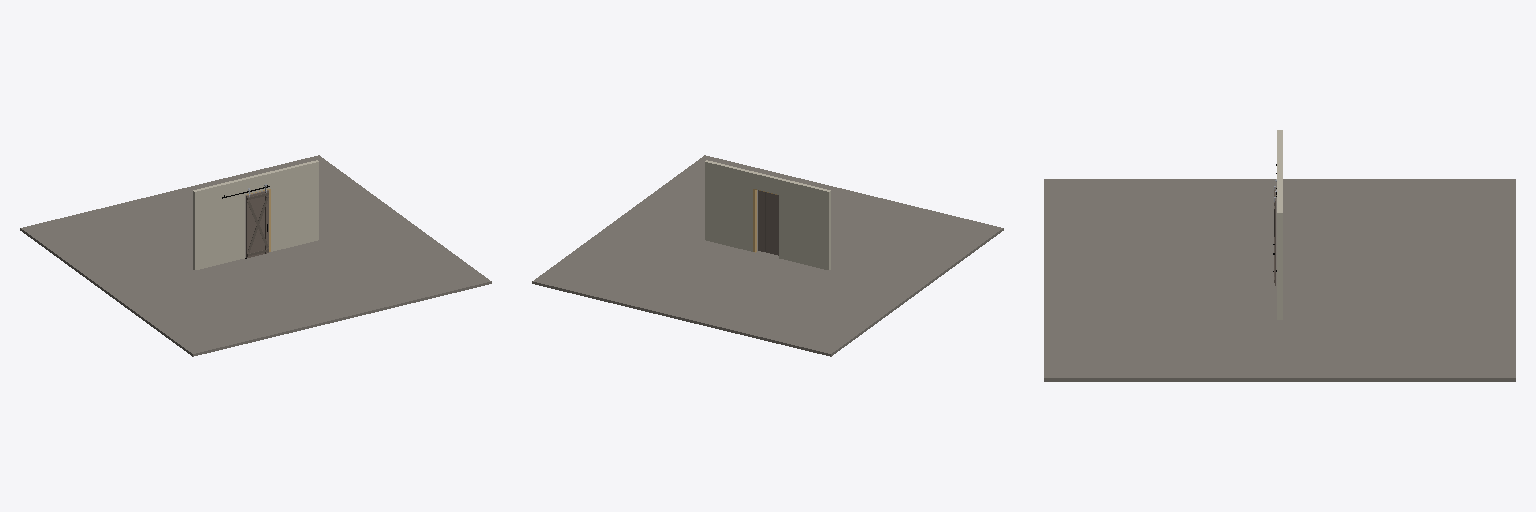
The robot description file, URDF, robot "db0920_sliding_single_full":
<?xml version="1.0" ?>
<robot xmlns:doorbench="https://github.com/adamraudonis/DoorBench/schema/urdf-ext" name="db0920_sliding_single_full">
  <link name="world_env">
    <visual name="floor_vis">
      <origin xyz="0 0 -0.05" rpy="0 0 0"/>
      <geometry>
        <box size="12 12 0.1"/>
      </geometry>
      <material name="mat_floor"/>
    </visual>
    <collision name="floor_col">
      <origin xyz="0 0 -0.05" rpy="0 0 0"/>
      <geometry>
        <box size="12 12 0.1"/>
      </geometry>
    </collision>
    <visual name="wall_left_vis">
      <origin xyz="-1.493 0 1.51" rpy="0 0 0"/>
      <geometry>
        <box size="2.014 0.145 3.02"/>
      </geometry>
      <material name="mat_wall"/>
    </visual>
    <collision name="wall_left_col">
      <origin xyz="-1.493 0 1.51" rpy="0 0 0"/>
      <geometry>
        <box size="2.014 0.145 3.02"/>
      </geometry>
    </collision>
    <visual name="wall_right_vis">
      <origin xyz="1.523 0 1.51" rpy="0 0 0"/>
      <geometry>
        <box size="1.954 0.145 3.02"/>
      </geometry>
      <material name="mat_wall"/>
    </visual>
    <collision name="wall_right_col">
      <origin xyz="1.523 0 1.51" rpy="0 0 0"/>
      <geometry>
        <box size="1.954 0.145 3.02"/>
      </geometry>
    </collision>
    <visual name="wall_header_vis">
      <origin xyz="0.03 0 2.7295" rpy="0 0 0"/>
      <geometry>
        <box size="1.032 0.145 0.581"/>
      </geometry>
      <material name="mat_wall"/>
    </visual>
    <collision name="wall_header_col">
      <origin xyz="0.03 0 2.7295" rpy="0 0 0"/>
      <geometry>
        <box size="1.032 0.145 0.581"/>
      </geometry>
    </collision>
    <visual name="jamb_l_vis">
      <origin xyz="-0.4765 0 1.21" rpy="0 0 0"/>
      <geometry>
        <box size="0.019 0.145 2.42"/>
      </geometry>
      <material name="mat_frame"/>
    </visual>
    <collision name="jamb_l_col">
      <origin xyz="-0.4765 0 1.21" rpy="0 0 0"/>
      <geometry>
        <box size="0.019 0.145 2.42"/>
      </geometry>
    </collision>
    <visual name="jamb_head_vis">
      <origin xyz="0 0 2.4295" rpy="0 0 0"/>
      <geometry>
        <box size="0.972 0.145 0.019"/>
      </geometry>
      <material name="mat_frame"/>
    </visual>
    <collision name="jamb_head_col">
      <origin xyz="0 0 2.4295" rpy="0 0 0"/>
      <geometry>
        <box size="0.972 0.145 0.019"/>
      </geometry>
    </collision>
    <visual name="flat_track_vis">
      <origin xyz="-0.457 -0.0945 2.54" rpy="0 0 0"/>
      <geometry>
        <box size="1.928 0.008 0.04"/>
      </geometry>
      <material name="mat_track"/>
    </visual>
    <collision name="flat_track_col">
      <origin xyz="-0.457 -0.0945 2.54" rpy="0 0 0"/>
      <geometry>
        <box size="1.928 0.008 0.04"/>
      </geometry>
    </collision>
    <visual name="track_standoff_0_vis">
      <origin xyz="-1.371 -0.0815 2.54" rpy="-1.570796 0 0"/>
      <geometry>
        <cylinder radius="0.012" length="0.018"/>
      </geometry>
      <material name="mat_track"/>
    </visual>
    <visual name="track_standoff_1_vis">
      <origin xyz="-0.914 -0.0815 2.54" rpy="-1.570796 0 0"/>
      <geometry>
        <cylinder radius="0.012" length="0.018"/>
      </geometry>
      <material name="mat_track"/>
    </visual>
    <visual name="track_standoff_2_vis">
      <origin xyz="-0.457 -0.0815 2.54" rpy="-1.570796 0 0"/>
      <geometry>
        <cylinder radius="0.012" length="0.018"/>
      </geometry>
      <material name="mat_track"/>
    </visual>
    <visual name="track_standoff_3_vis">
      <origin xyz="0 -0.0815 2.54" rpy="-1.570796 0 0"/>
      <geometry>
        <cylinder radius="0.012" length="0.018"/>
      </geometry>
      <material name="mat_track"/>
    </visual>
    <visual name="track_standoff_4_vis">
      <origin xyz="0.457 -0.0815 2.54" rpy="-1.570796 0 0"/>
      <geometry>
        <cylinder radius="0.012" length="0.018"/>
      </geometry>
      <material name="mat_track"/>
    </visual>
    <visual name="leaf_track_stop_l_vis">
      <origin xyz="-1.313 -0.0945 2.585" rpy="0 0 0"/>
      <geometry>
        <box size="0.024 0.032 0.054"/>
      </geometry>
      <material name="mat_track"/>
    </visual>
    <collision name="leaf_track_stop_l_col">
      <origin xyz="-1.313 -0.0945 2.585" rpy="0 0 0"/>
      <geometry>
        <box size="0.024 0.032 0.054"/>
      </geometry>
    </collision>
    <visual name="leaf_track_stop_r_vis">
      <origin xyz="0.399 -0.0945 2.585" rpy="0 0 0"/>
      <geometry>
        <box size="0.024 0.032 0.054"/>
      </geometry>
      <material name="mat_track"/>
    </visual>
    <collision name="leaf_track_stop_r_col">
      <origin xyz="0.399 -0.0945 2.585" rpy="0 0 0"/>
      <geometry>
        <box size="0.024 0.032 0.054"/>
      </geometry>
    </collision>
    <visual name="jamb_latch_0_vis">
      <origin xyz="0.5065 0 1.21" rpy="0 0 0"/>
      <geometry>
        <box size="0.079 0.145 2.42"/>
      </geometry>
      <material name="mat_frame"/>
    </visual>
    <collision name="jamb_latch_0_col">
      <origin xyz="0.5065 0 1.21" rpy="0 0 0"/>
      <geometry>
        <box size="0.079 0.145 2.42"/>
      </geometry>
    </collision>
    <visual name="floor_guide_n_vis">
      <origin xyz="-0.457 -0.1415 0.009" rpy="0 0 0"/>
      <geometry>
        <box size="0.056 0.008 0.018"/>
      </geometry>
      <material name="mat_track"/>
    </visual>
    <collision name="floor_guide_n_col">
      <origin xyz="-0.457 -0.1415 0.009" rpy="0 0 0"/>
      <geometry>
        <box size="0.056 0.008 0.018"/>
      </geometry>
    </collision>
    <visual name="floor_guide_n_foot_vis">
      <origin xyz="-0.457 -0.1555 0.002" rpy="0 0 0"/>
      <geometry>
        <box size="0.056 0.036 0.004"/>
      </geometry>
      <material name="mat_track"/>
    </visual>
    <collision name="floor_guide_n_foot_col">
      <origin xyz="-0.457 -0.1555 0.002" rpy="0 0 0"/>
      <geometry>
        <box size="0.056 0.036 0.004"/>
      </geometry>
    </collision>
    <visual name="floor_guide_p_vis">
      <origin xyz="-0.457 -0.0875 0.009" rpy="0 0 0"/>
      <geometry>
        <box size="0.056 0.008 0.018"/>
      </geometry>
      <material name="mat_track"/>
    </visual>
    <collision name="floor_guide_p_col">
      <origin xyz="-0.457 -0.0875 0.009" rpy="0 0 0"/>
      <geometry>
        <box size="0.056 0.008 0.018"/>
      </geometry>
    </collision>
    <visual name="floor_guide_p_foot_vis">
      <origin xyz="-0.457 -0.0735 0.002" rpy="0 0 0"/>
      <geometry>
        <box size="0.056 0.036 0.004"/>
      </geometry>
      <material name="mat_track"/>
    </visual>
    <collision name="floor_guide_p_foot_col">
      <origin xyz="-0.457 -0.0735 0.002" rpy="0 0 0"/>
      <geometry>
        <box size="0.056 0.036 0.004"/>
      </geometry>
    </collision>
  </link>
  <link name="leaf">
    <inertial>
      <origin xyz="0.00355 0.000111 1.321032" rpy="0 0 0"/>
      <mass value="47.028832"/>
      <inertia ixx="26.963078082" ixy="0.009889738" ixz="0.053591985" iyy="30.429437771" iyz="-0.054528862" izz="3.486531905"/>
    </inertial>
    <visual name="leaf_slab_vis">
      <origin xyz="0 0 1.212" rpy="0 0 0"/>
      <geometry>
        <box size="0.914 0.044 2.4"/>
      </geometry>
      <material name="mat_leaf"/>
    </visual>
    <collision name="leaf_slab_col">
      <origin xyz="0 0 1.212" rpy="0 0 0"/>
      <geometry>
        <box size="0.914 0.044 2.4"/>
      </geometry>
    </collision>
    <visual name="leaf_plank_gap_1_vis">
      <origin xyz="-0.304667 0 1.212" rpy="0 0 0"/>
      <geometry>
        <box size="0.004 0.046 2.38"/>
      </geometry>
      <material name="mat_leaf_brace"/>
    </visual>
    <visual name="leaf_plank_gap_2_vis">
      <origin xyz="-0.152333 0 1.212" rpy="0 0 0"/>
      <geometry>
        <box size="0.004 0.046 2.38"/>
      </geometry>
      <material name="mat_leaf_brace"/>
    </visual>
    <visual name="leaf_plank_gap_3_vis">
      <origin xyz="0 0 1.212" rpy="0 0 0"/>
      <geometry>
        <box size="0.004 0.046 2.38"/>
      </geometry>
      <material name="mat_leaf_brace"/>
    </visual>
    <visual name="leaf_plank_gap_4_vis">
      <origin xyz="0.152333 0 1.212" rpy="0 0 0"/>
      <geometry>
        <box size="0.004 0.046 2.38"/>
      </geometry>
      <material name="mat_leaf_brace"/>
    </visual>
    <visual name="leaf_plank_gap_5_vis">
      <origin xyz="0.304667 0 1.212" rpy="0 0 0"/>
      <geometry>
        <box size="0.004 0.046 2.38"/>
      </geometry>
      <material name="mat_leaf_brace"/>
    </visual>
    <visual name="leaf_batten_13_vis">
      <origin xyz="0 -0.032 0.132" rpy="0 0 0"/>
      <geometry>
        <box size="0.854 0.02 0.09"/>
      </geometry>
      <material name="mat_leaf_brace"/>
    </visual>
    <visual name="leaf_batten_229_vis">
      <origin xyz="0 -0.032 2.292" rpy="0 0 0"/>
      <geometry>
        <box size="0.854 0.02 0.09"/>
      </geometry>
      <material name="mat_leaf_brace"/>
    </visual>
    <visual name="leaf_brace_z_vis">
      <origin xyz="0 -0.032 1.212" rpy="0 -1.192816 0"/>
      <geometry>
        <box size="2.085696 0.02 0.09"/>
      </geometry>
      <material name="mat_leaf_brace"/>
    </visual>
    <visual name="leaf_brace_x_vis">
      <origin xyz="0 -0.032 1.212" rpy="0 1.192816 0"/>
      <geometry>
        <box size="2.085696 0.02 0.09"/>
      </geometry>
      <material name="mat_leaf_brace"/>
    </visual>
    <visual name="leaf_hanger_wheel_0_vis">
      <origin xyz="-0.337 0.02 2.61" rpy="-1.570796 0 0"/>
      <geometry>
        <cylinder radius="0.05" length="0.02"/>
      </geometry>
      <material name="mat_roller"/>
    </visual>
    <visual name="leaf_hanger_mount_0_vis">
      <origin xyz="-0.337 -0.026 2.3645" rpy="0 0 0"/>
      <geometry>
        <box size="0.036 0.008 0.145"/>
      </geometry>
      <material name="mat_roller"/>
    </visual>
    <visual name="leaf_hanger_strap_0_vis">
      <origin xyz="-0.337 0.006 2.5295" rpy="0 0 0"/>
      <geometry>
        <box size="0.036 0.008 0.185"/>
      </geometry>
      <material name="mat_roller"/>
    </visual>
    <visual name="leaf_hanger_bend_0_vis">
      <origin xyz="-0.337 -0.01 2.437" rpy="0 0 0"/>
      <geometry>
        <box size="0.036 0.04 0.008"/>
      </geometry>
      <material name="mat_roller"/>
    </visual>
    <visual name="leaf_hanger_axle_0_vis">
      <origin xyz="-0.337 0.013 2.61" rpy="-1.570796 0 0"/>
      <geometry>
        <cylinder radius="0.006" length="0.042"/>
      </geometry>
      <material name="mat_roller"/>
    </visual>
    <visual name="leaf_hanger_bolt_0_90_vis">
      <origin xyz="-0.337 -0.032 2.322" rpy="-1.570796 0 0"/>
      <geometry>
        <cylinder radius="0.007" length="0.008"/>
      </geometry>
      <material name="mat_roller"/>
    </visual>
    <visual name="leaf_hanger_bolt_0_45_vis">
      <origin xyz="-0.337 -0.032 2.367" rpy="-1.570796 0 0"/>
      <geometry>
        <cylinder radius="0.007" length="0.008"/>
      </geometry>
      <material name="mat_roller"/>
    </visual>
    <visual name="leaf_hanger_wheel_1_vis">
      <origin xyz="0.337 0.02 2.61" rpy="-1.570796 0 0"/>
      <geometry>
        <cylinder radius="0.05" length="0.02"/>
      </geometry>
      <material name="mat_roller"/>
    </visual>
    <visual name="leaf_hanger_mount_1_vis">
      <origin xyz="0.337 -0.026 2.3645" rpy="0 0 0"/>
      <geometry>
        <box size="0.036 0.008 0.145"/>
      </geometry>
      <material name="mat_roller"/>
    </visual>
    <visual name="leaf_hanger_strap_1_vis">
      <origin xyz="0.337 0.006 2.5295" rpy="0 0 0"/>
      <geometry>
        <box size="0.036 0.008 0.185"/>
      </geometry>
      <material name="mat_roller"/>
    </visual>
    <visual name="leaf_hanger_bend_1_vis">
      <origin xyz="0.337 -0.01 2.437" rpy="0 0 0"/>
      <geometry>
        <box size="0.036 0.04 0.008"/>
      </geometry>
      <material name="mat_roller"/>
    </visual>
    <visual name="leaf_hanger_axle_1_vis">
      <origin xyz="0.337 0.013 2.61" rpy="-1.570796 0 0"/>
      <geometry>
        <cylinder radius="0.006" length="0.042"/>
      </geometry>
      <material name="mat_roller"/>
    </visual>
    <visual name="leaf_hanger_bolt_1_90_vis">
      <origin xyz="0.337 -0.032 2.322" rpy="-1.570796 0 0"/>
      <geometry>
        <cylinder radius="0.007" length="0.008"/>
      </geometry>
      <material name="mat_roller"/>
    </visual>
    <visual name="leaf_hanger_bolt_1_45_vis">
      <origin xyz="0.337 -0.032 2.367" rpy="-1.570796 0 0"/>
      <geometry>
        <cylinder radius="0.007" length="0.008"/>
      </geometry>
      <material name="mat_roller"/>
    </visual>
    <visual name="leaf_pull_n_vis">
      <origin xyz="0.367 -0.022 1" rpy="1.570796 0 0"/>
      <geometry>
        <mesh filename="../../hardware/pull_2b47e55ff8.obj"/>
      </geometry>
      <material name="mat_op_black_matte_metal"/>
    </visual>
    <collision name="leaf_pull_col_n_col">
      <origin xyz="0.367 -0.067 1" rpy="0 0 0"/>
      <geometry>
        <cylinder radius="0.006" length="0.26"/>
      </geometry>
    </collision>
  </link>
  <joint name="leaf_slide" type="prismatic">
    <origin xyz="0 -0.1145 0" rpy="0 0 0"/>
    <parent link="world_env"/>
    <child link="leaf"/>
    <axis xyz="-1 0 0"/>
    <limit lower="0" upper="0.914" effort="5000" velocity="10"/>
    <dynamics damping="4.351442" friction="18.447812"/>
  </joint>
  <material name="mat_floor">
    <color rgba="0.55 0.53 0.5 1"/>
  </material>
  <material name="mat_frame">
    <color rgba="0.82 0.7 0.5 1"/>
  </material>
  <material name="mat_leaf">
    <color rgba="0.5 0.46 0.425 1"/>
  </material>
  <material name="mat_leaf_brace">
    <color rgba="0.45 0.414 0.383 1"/>
  </material>
  <material name="mat_op_black_matte_metal">
    <color rgba="0.05 0.05 0.05 1"/>
  </material>
  <material name="mat_roller">
    <color rgba="0.65 0.66 0.68 1"/>
  </material>
  <material name="mat_track">
    <color rgba="0.05 0.05 0.05 1"/>
  </material>
  <material name="mat_wall">
    <color rgba="0.78 0.76 0.7 1"/>
  </material>
</robot>

--- What the picture shows (computed from the rendered views, not written in the file) ---
The picture shows the robot from 3 angles, left to right: view 1: azimuth 30°, elevation 25°; view 2: azimuth 150°, elevation 25°; view 3: azimuth 270°, elevation 25°; orthographic projection.
Model db0920_sliding_single_full with 2 links and 1 joints (1 prismatic), rooted at world_env, posed all joints at 0.
Links seen in each view (by area): view 1: world_env, leaf; view 2: world_env, leaf; view 3: world_env.
Link boxes in pixels (<box>): world_env: <box>20,155,491,356</box>; leaf: <box>246,184,268,257</box>; world_env: <box>532,155,1003,356</box>; leaf: <box>758,190,778,255</box>; world_env: <box>1044,130,1515,381</box>.
Bounding box of the posed robot: 12 × 12 × 3.12 m (x, y, z).
1 mesh visuals loaded from 1 distinct referenced files (1 OBJ).
